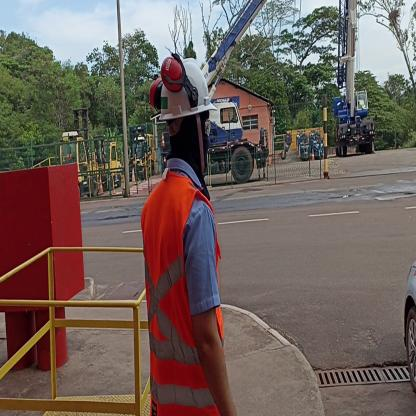Balaclava: (167, 116, 212, 168)
Capacete: (157, 51, 217, 116)
colete: (143, 186, 224, 416)
